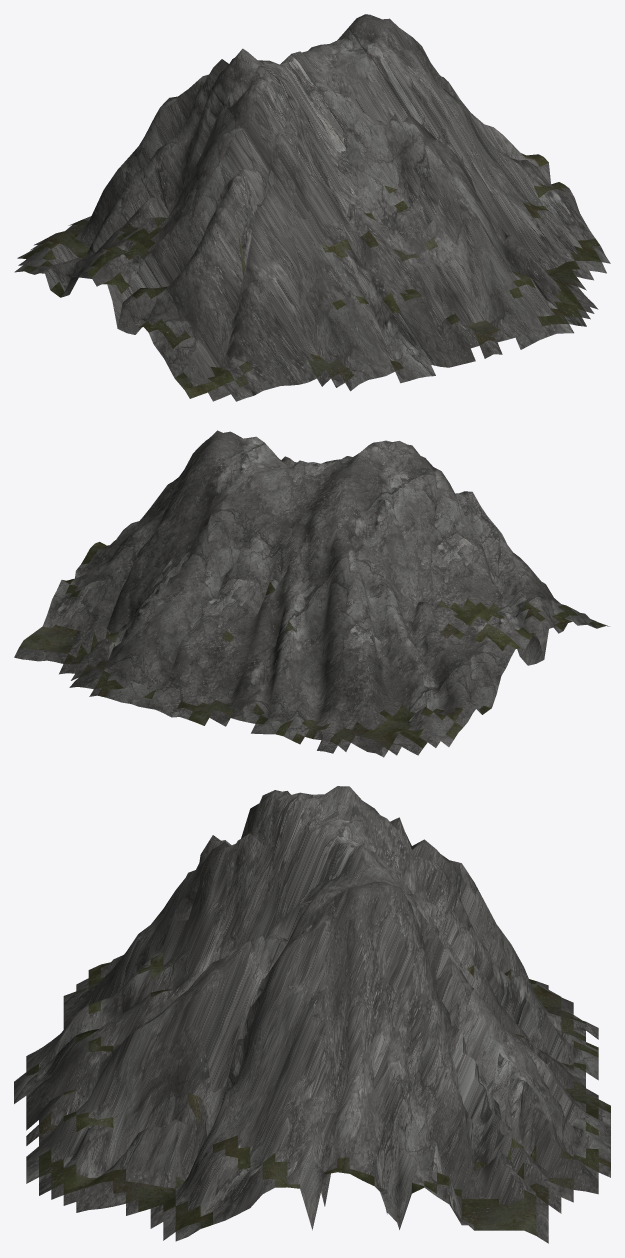
Rendered from border_peak_b_v5_summer.glb.
The picture shows the model from 3 angles, top to bottom: view 1: azimuth 30°, elevation 25°; view 2: azimuth 150°, elevation 25°; view 3: azimuth 270°, elevation 25°; orthographic projection. The views are drawn at different scales.
Visible parts, largest first — view 1: border_peak_b; view 2: border_peak_b; view 3: border_peak_b.
Boxes of the visible parts, x1,y1,x2,y2 form: border_peak_b: (14,14,610,401); border_peak_b: (14,430,609,757); border_peak_b: (14,786,610,1243).
Bounding box in the file's own units: 1 × 0.4988 × 0.9412.
2 materials, 2 textured.
